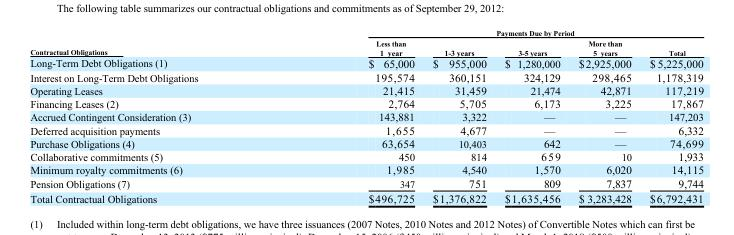table: (29, 28, 703, 204)
table column: (29, 28, 282, 204), (282, 28, 423, 204), (495, 28, 568, 204), (423, 28, 495, 204), (568, 28, 640, 204), (640, 28, 703, 204)
table column header: (29, 28, 703, 56)
table row: (29, 37, 703, 56), (29, 56, 703, 70), (29, 109, 703, 123), (29, 149, 703, 163), (29, 176, 703, 190), (29, 190, 703, 204), (29, 70, 703, 83), (29, 83, 703, 96), (29, 96, 703, 109), (29, 123, 703, 136), (29, 136, 703, 149), (29, 163, 703, 176), (29, 28, 703, 37)
table spanning cell: (29, 28, 282, 56), (282, 28, 703, 37)
